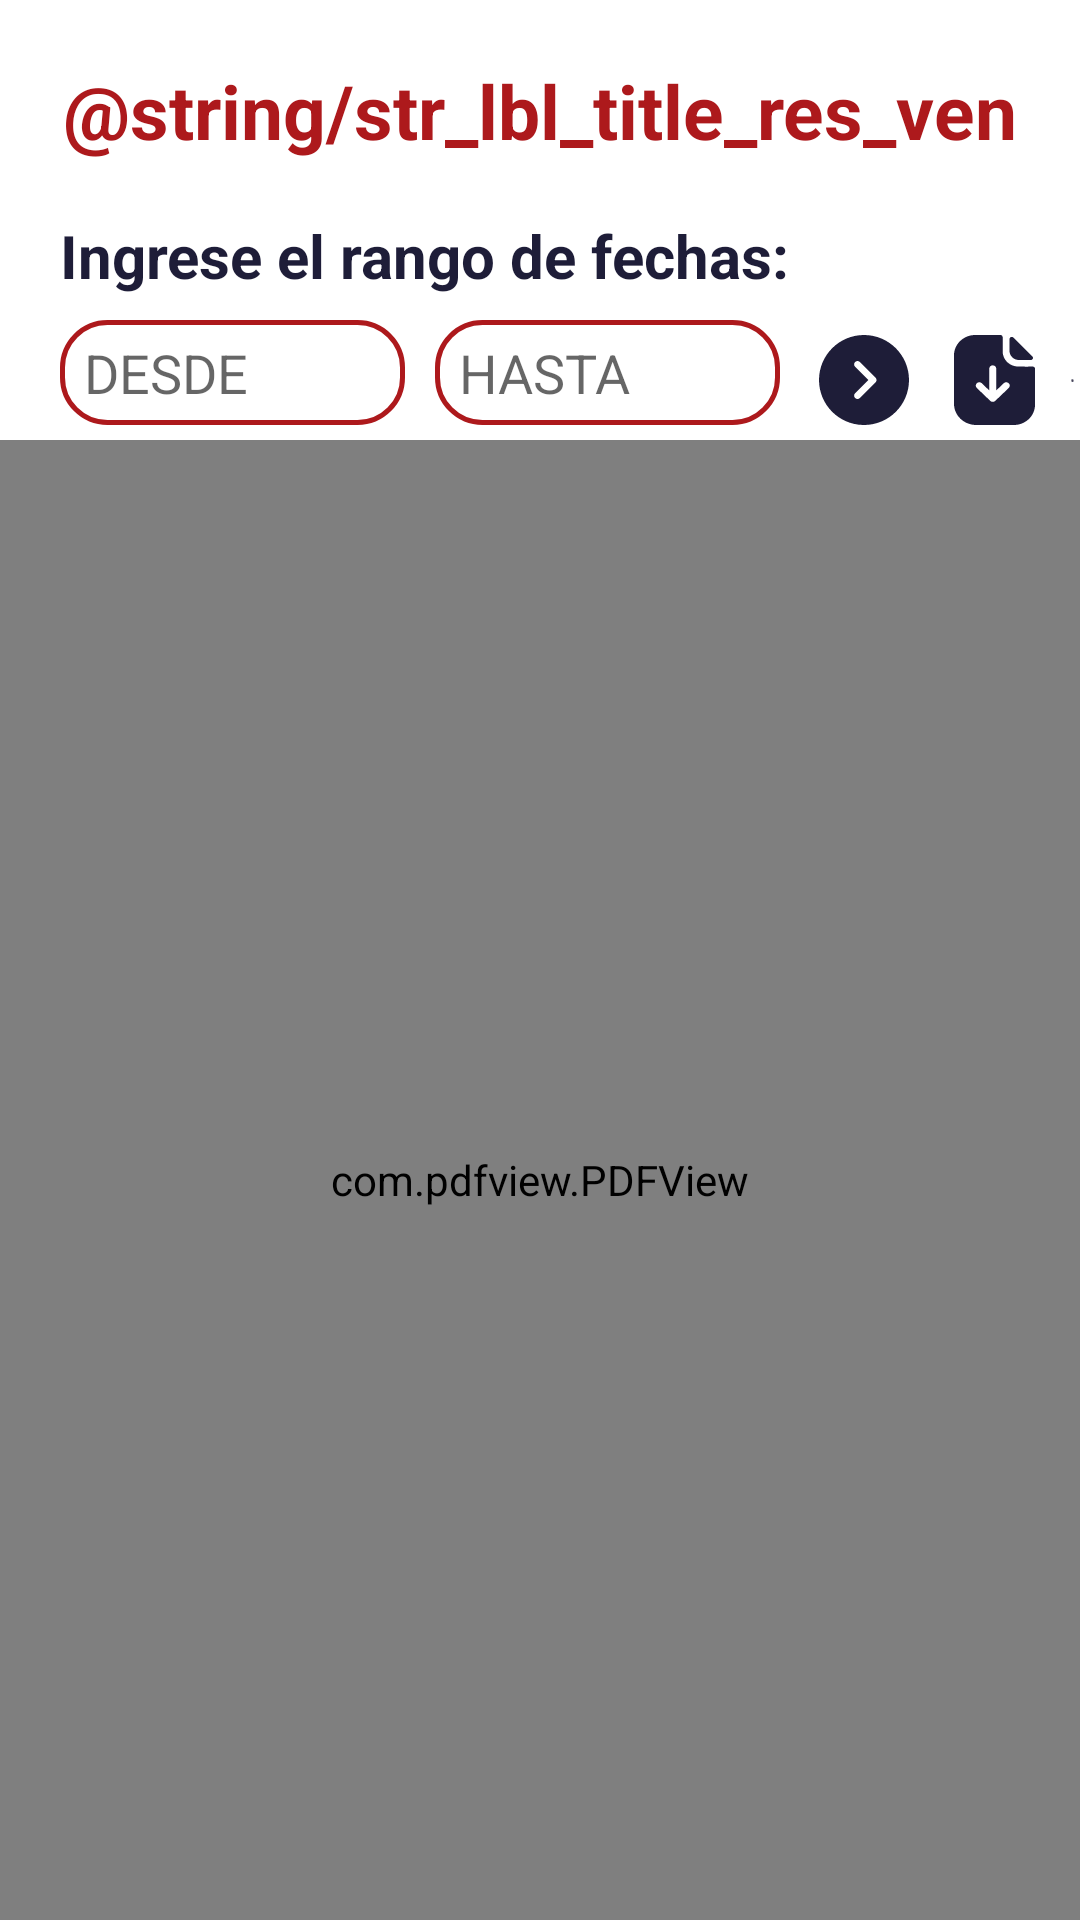

Screen size 1080x1920. Icon name, then its box in pixels as (x1, y1, x2, y2):
down doc: (954, 335, 1035, 425)
